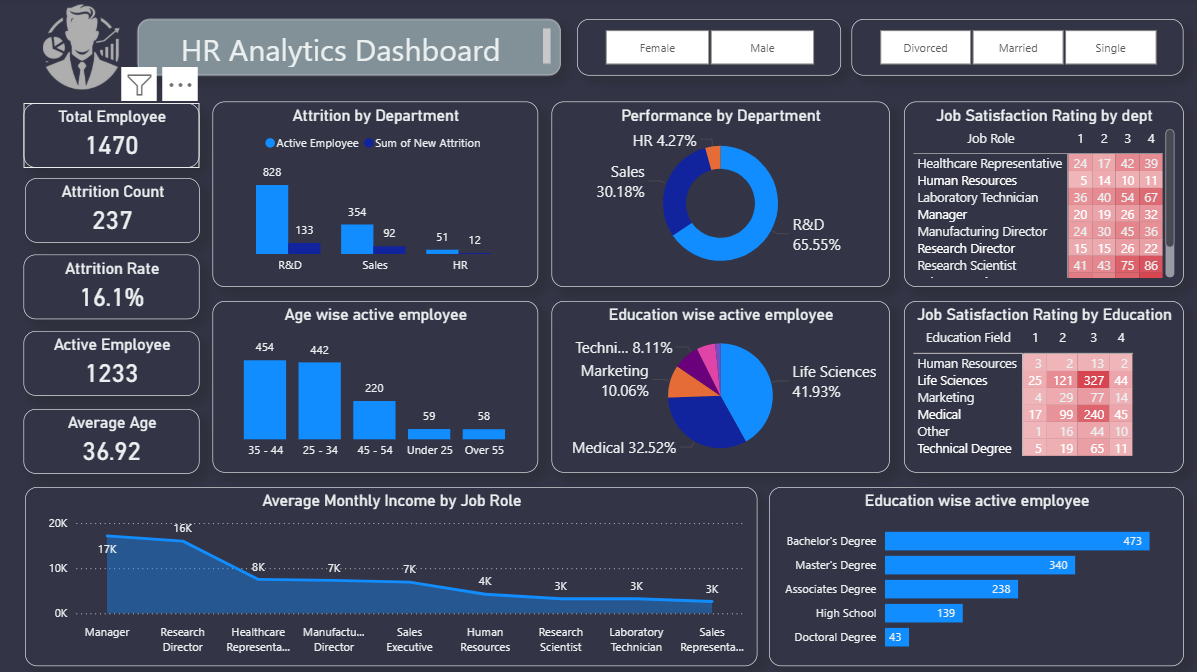

The dashboard page shown, as its layout file describes it:
{"tool":"powerbi","page":{"name":"HR Analytics Summary","canvas":[1280,720],"ordinal":0},"visuals":[{"type":"textbox","box":[151.7,21.7,448.3,60],"z":0},{"type":"image","box":[30,2.2,122.2,100],"z":1000},{"type":"card","title":"Total Employee","fields":{"Values":["Sum(HR data.Employee Count)"]},"box":[30,110.8,186.7,68.3],"z":2000},{"type":"card","title":"Active Employee","fields":{"Values":["HR data.Active Employee"]},"box":[30,352.5,186.7,68.3],"z":3000},{"type":"card","title":"Average Age","fields":{"Values":["Avg(HR data.Age)"]},"box":[30,435.8,186.7,68.3],"z":4000},{"type":"card","title":"Attrition Rate","fields":{"Values":["HR data.Attrition Rate"]},"box":[30,272.5,186.7,68.3],"z":5000},{"type":"card","title":"Attrition Count","fields":{"Values":["Sum(HR data.New Attrition)"]},"box":[31.7,190.8,185,68.3],"z":6000},{"type":"clusteredColumnChart","title":"Attrition by Department","fields":{"Category":["HR data.Department"],"Y":["HR data.Active Employee","Sum(HR data.New Attrition)"]},"box":[230,110,345,196.7],"z":7000},{"type":"slicer","fields":{"Values":["HR data.Gender"]},"box":[616.7,21.7,280,60],"z":8000},{"type":"slicer","fields":{"Values":["HR data.Marital Status"]},"box":[908.3,21.7,351.7,60],"z":9000},{"type":"clusteredColumnChart","title":"Age wise active employee","fields":{"Category":["HR data.CF_age band"],"Y":["HR data.Active Employee"]},"box":[230,321.7,345,181.7],"z":10000},{"type":"pieChart","title":"Education wise active employee","fields":{"Y":["HR data.Active Employee"],"Category":["HR data.Education Field"]},"box":[590,321.7,358.3,181.7],"z":11000},{"type":"donutChart","title":"Performance by Department","fields":{"Y":["Sum(HR data.Performance Rating)"],"Category":["HR data.Department"]},"box":[590,110,358.3,196.7],"z":12000},{"type":"areaChart","title":"Average Monthly Income by Job Role","fields":{"Category":["HR data.Job Role"],"Y":["Avg(HR data.Monthly Income)"]},"box":[31.7,517.8,776.7,190],"z":13000},{"type":"clusteredBarChart","title":"Education wise active employee","fields":{"Category":["HR data.Education"],"Y":["HR data.Active Employee"]},"box":[820,517.8,440,190],"z":14000},{"type":"pivotTable","title":"Job Satisfaction Rating by dept","fields":{"Columns":["HR data.Job Satisfaction"],"Rows":["HR data.Job Role"],"Values":["HR data.Active Employee"]},"box":[963.3,110,296.7,196.7],"z":15000},{"type":"pivotTable","title":"Job Satisfaction Rating by Education","fields":{"Values":["HR data.Active Employee"],"Columns":["HR data.Work Life Balance"],"Rows":["HR data.Education Field"]},"box":[963.3,321.7,296.7,181.7],"z":16000}]}

Visuals, with their boxes in screenshot pixels (x1, y1, x2, y2), scaled from the page's 1280x720 canvas onto the 1197x672 screenshot:
textbox: 142:20:561:76
image: 28:2:142:95
"Total Employee" card: 28:103:203:167
"Active Employee" card: 28:329:203:393
"Average Age" card: 28:407:203:470
"Attrition Rate" card: 28:254:203:318
"Attrition Count" card: 30:178:203:242
"Attrition by Department" clusteredColumnChart: 215:103:538:286
slicer - HR data.Gender: 577:20:839:76
slicer - HR data.Marital Status: 849:20:1178:76
"Age wise active employee" clusteredColumnChart: 215:300:538:470
"Education wise active employee" pieChart: 552:300:887:470
"Performance by Department" donutChart: 552:103:887:286
"Average Monthly Income by Job Role" areaChart: 30:483:756:661
"Education wise active employee" clusteredBarChart: 767:483:1178:661
"Job Satisfaction Rating by dept" pivotTable: 901:103:1178:286
"Job Satisfaction Rating by Education" pivotTable: 901:300:1178:470
